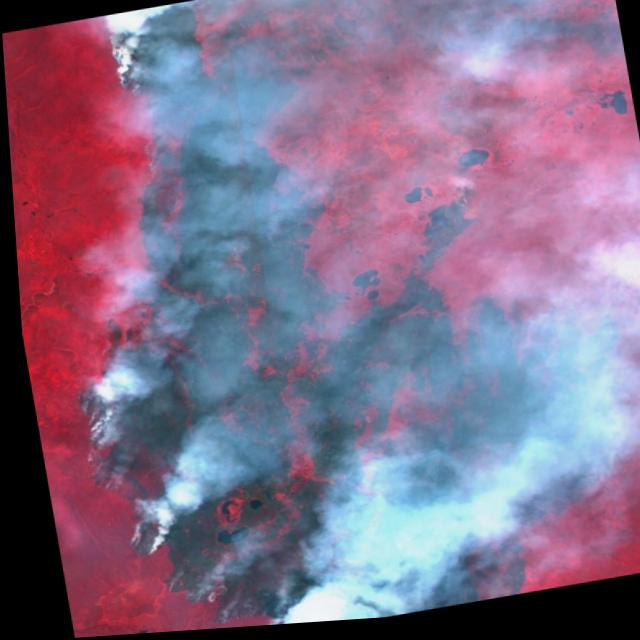fire: (67, 382, 125, 521), (106, 4, 189, 97), (116, 515, 163, 561), (158, 580, 215, 610), (195, 599, 232, 631)
